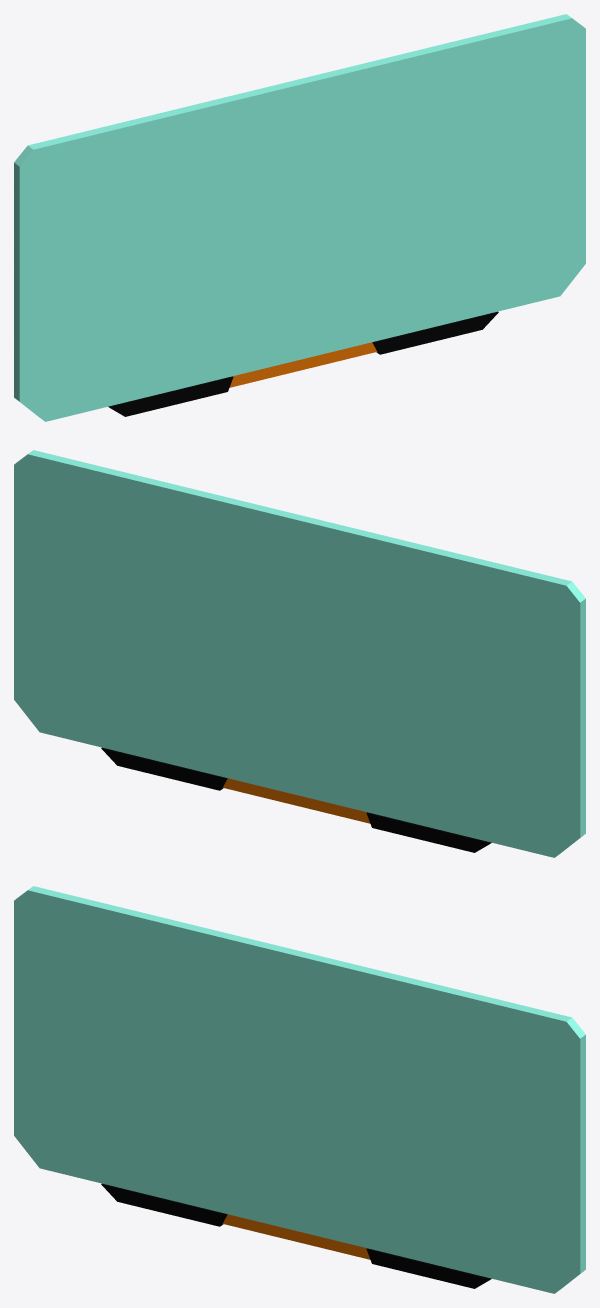
The model's file is SM_schermo03.fbx.
3 views of the same model, one above another, from view 1: azimuth 30°, elevation 25°; view 2: azimuth 150°, elevation 25°; view 3: azimuth 330°, elevation 25° (orthographic).
Parts seen in each view (by area): view 1: schermo3_lp; view 2: schermo3_lp; view 3: schermo3_lp.
Boxes of the visible parts, <box> form: schermo3_lp: <box>14,14,585,421</box>; schermo3_lp: <box>14,450,585,857</box>; schermo3_lp: <box>14,886,585,1293</box>.
Bounding box in the file's own units: 136 × 66.29 × 3.31.
1 material, 1 textured.
